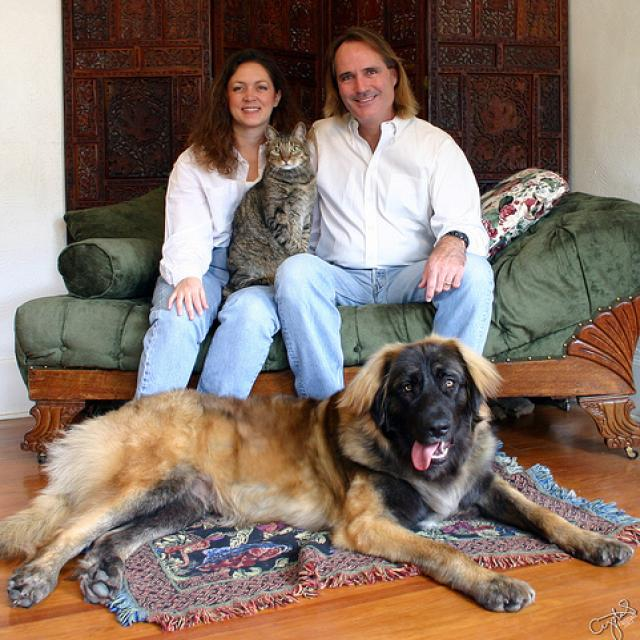dog-leonberger: (3, 326, 636, 614)
